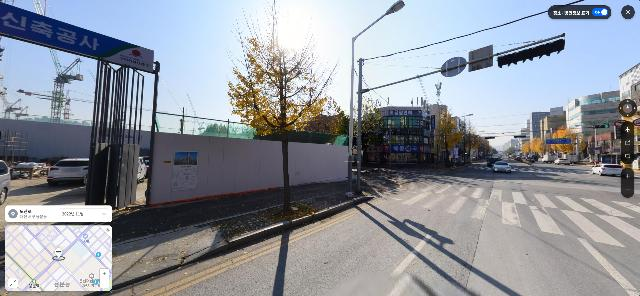ginkgo: (227, 1, 339, 215), (436, 113, 463, 166), (546, 127, 585, 159), (522, 138, 547, 159)
other: (351, 96, 388, 165), (306, 98, 356, 146), (199, 124, 227, 137)
